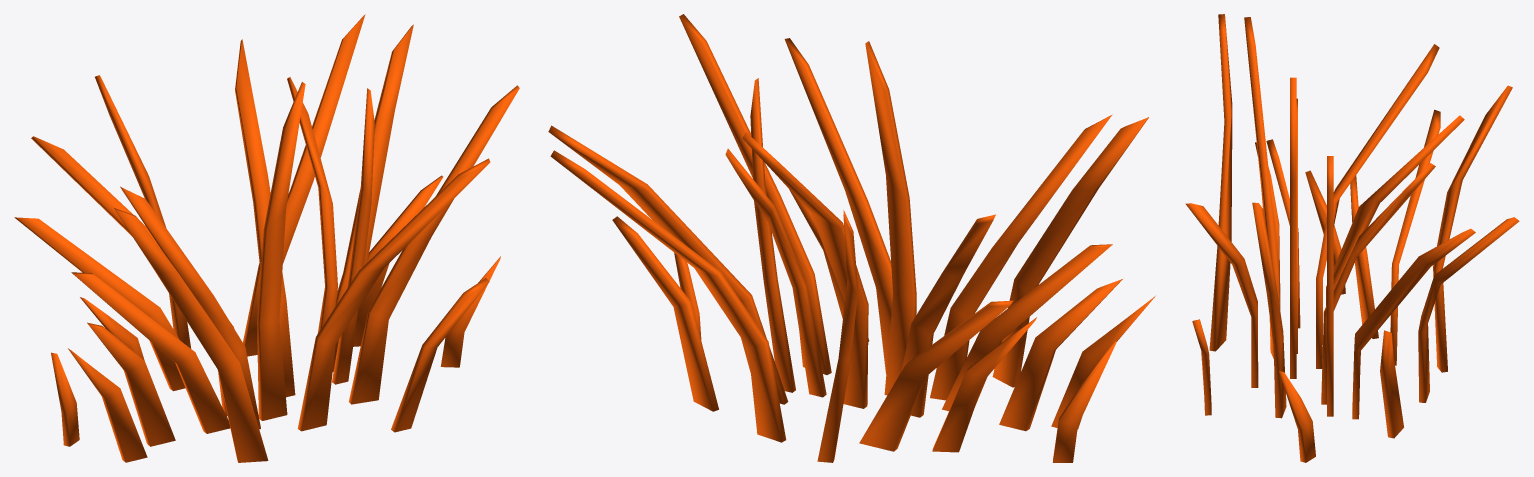
File: Grass001.fbx
3 views of the same model, side by side, from view 1: azimuth 30°, elevation 25°; view 2: azimuth 150°, elevation 25°; view 3: azimuth 270°, elevation 25° (orthographic). The views are drawn at different scales.
Visible parts, largest first — view 1: Grass_Large_Extruded; view 2: Grass_Large_Extruded; view 3: Grass_Large_Extruded.
Part boxes in pixels (x1,y1,x2,y2): Grass_Large_Extruded: (14, 14, 519, 462); Grass_Large_Extruded: (548, 14, 1155, 462); Grass_Large_Extruded: (1185, 14, 1519, 462).
Size of the model in its own units: 83.86 by 57.3 by 56.
1 material, 1 textured.
